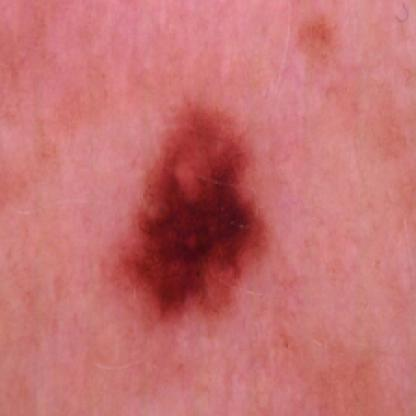benign: (124, 124, 268, 329)
